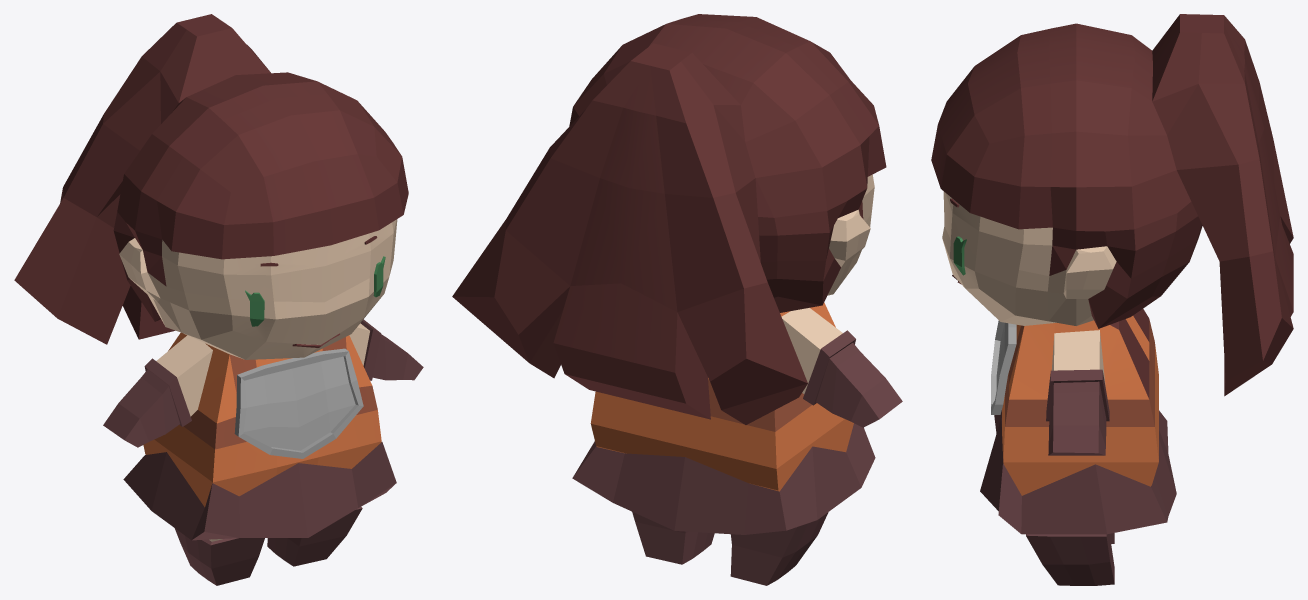
File: Xy model coloured.fbx
3 views of the same model, side by side, from view 1: azimuth 30°, elevation 25°; view 2: azimuth 150°, elevation 25°; view 3: azimuth 270°, elevation 25° (orthographic). The views are drawn at different scales.
Visible parts, largest first — view 1: pCube8, pCube9, pCube10; view 2: pCube8, pCube9; view 3: pCube8, pCube9, pCube10.
Boxes of the visible parts, box(x1,y1,x2,y2) form: pCube8: box(14, 14, 423, 585); pCube9: box(123, 442, 396, 540); pCube10: box(234, 348, 363, 458); pCube8: box(452, 14, 902, 585); pCube9: box(572, 423, 875, 534); pCube8: box(931, 14, 1293, 585); pCube9: box(980, 410, 1176, 534); pCube10: box(991, 320, 1016, 414).
Bounding box in the file's own units: 5.25 × 7.74 × 4.77.
